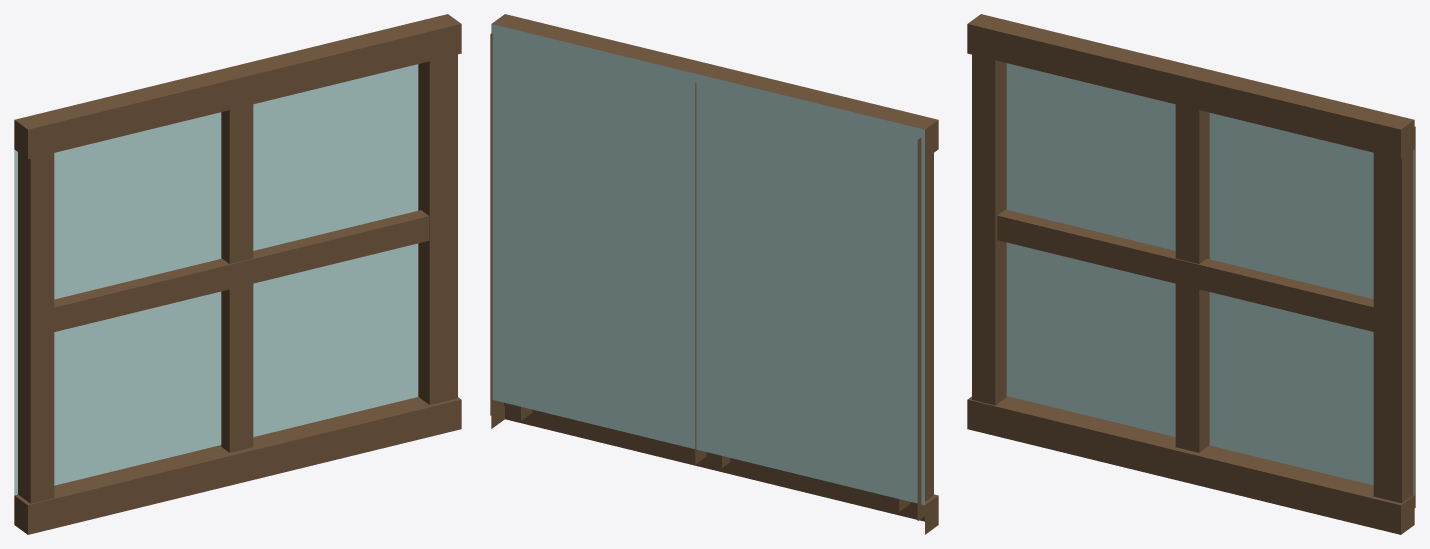
File: Window.fbx
3 views of the same model, side by side, from view 1: azimuth 30°, elevation 25°; view 2: azimuth 150°, elevation 25°; view 3: azimuth 330°, elevation 25° (orthographic).
Parts seen in each view (by area): view 1: Window; view 2: Window; view 3: Window.
Boxes of the visible parts, x1,y1,x2,y2 form: Window: [14, 14, 461, 534]; Window: [490, 14, 938, 534]; Window: [967, 14, 1415, 534].
Bounding box in the file's own units: 94.02 × 83.98 × 6.46.
